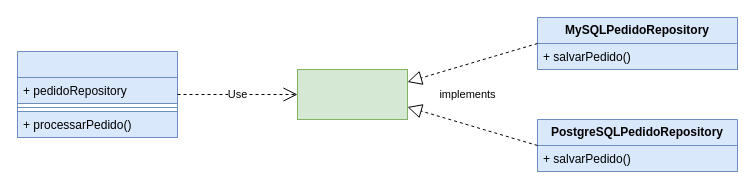
The diagram is 755 pixels wide and 192 high, and some of its shapes have lost their labels. The shapes that lost their labels are listed below. From the top down, each one's box as (x1, y1, x2, y2) in pixels, then its label:
(16, 50, 178, 138): PedidoService
(296, 68, 408, 120): «interface» PedidoRepository
